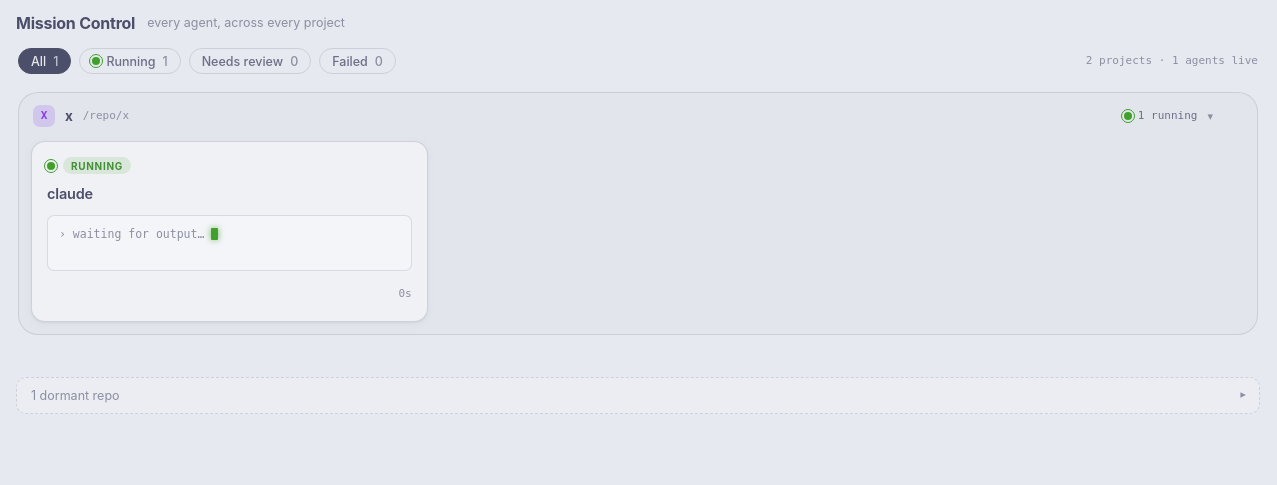
Scenario: MissionControl › folds registered repos without sessions into a compact dormant section
Click the button with class "mc-dormant-head": (80, 395) x1=17 y1=378 x2=1259 y2=413
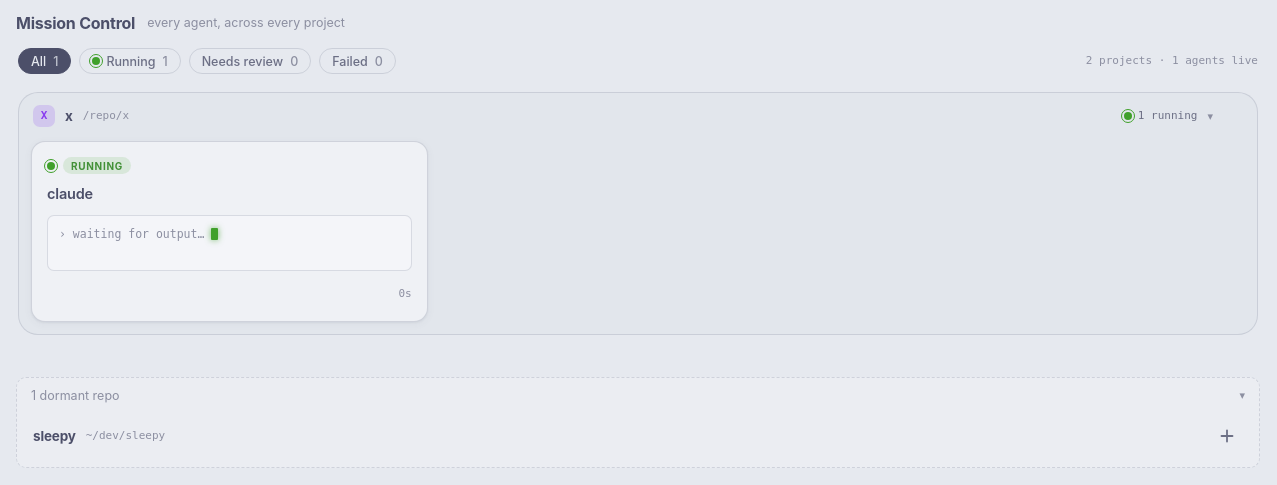
Result: the list item with class "mc-dormant-row" shows "sleepy" at x1=33 y1=428 x2=76 y2=444
Result: the list item with class "mc-dormant-row" shows "~/dev/sleepy" at x1=86 y1=429 x2=165 y2=442
